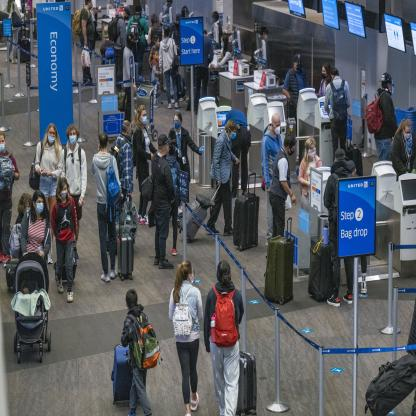airport-trolley: (137, 74, 160, 138)
